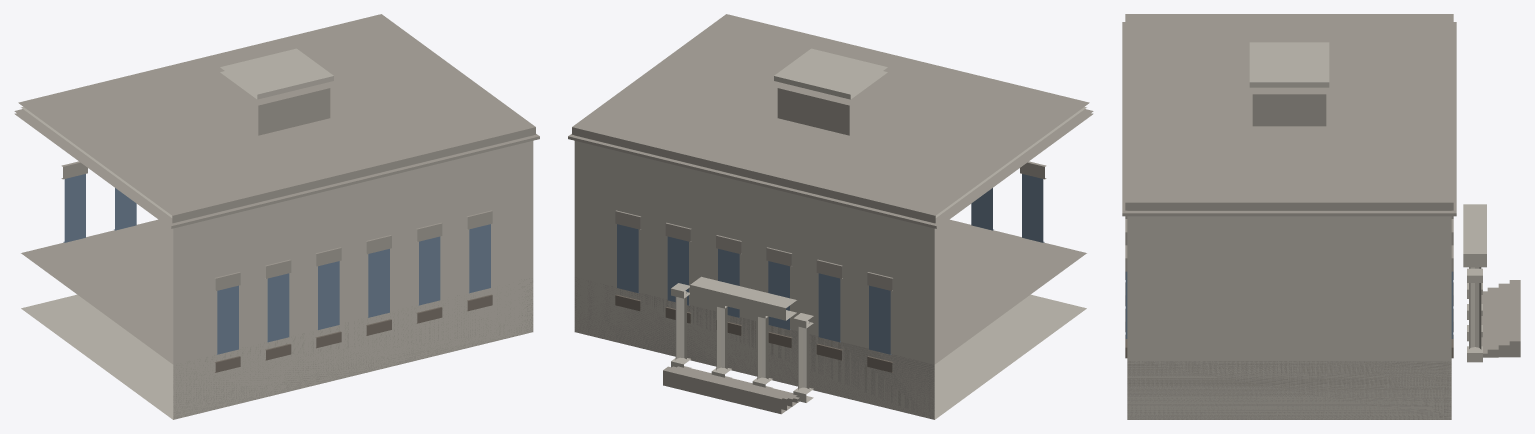
Rendered from library_civic.glb.
The picture shows the model from 3 angles, left to right: view 1: azimuth 30°, elevation 25°; view 2: azimuth 150°, elevation 25°; view 3: azimuth 270°, elevation 25°; orthographic projection. The views are drawn at different scales.
Parts seen in each view (by area): view 1: library_civic; view 2: library_civic; view 3: library_civic.
Boxes of the visible parts, x1=… form: library_civic: x1=14, y1=14, x2=539, y2=419; library_civic: x1=568, y1=14, x2=1093, y2=419; library_civic: x1=1122, y1=14, x2=1520, y2=419.
Bounding box in the file's own units: 30.7 × 19.8 × 27.05.
